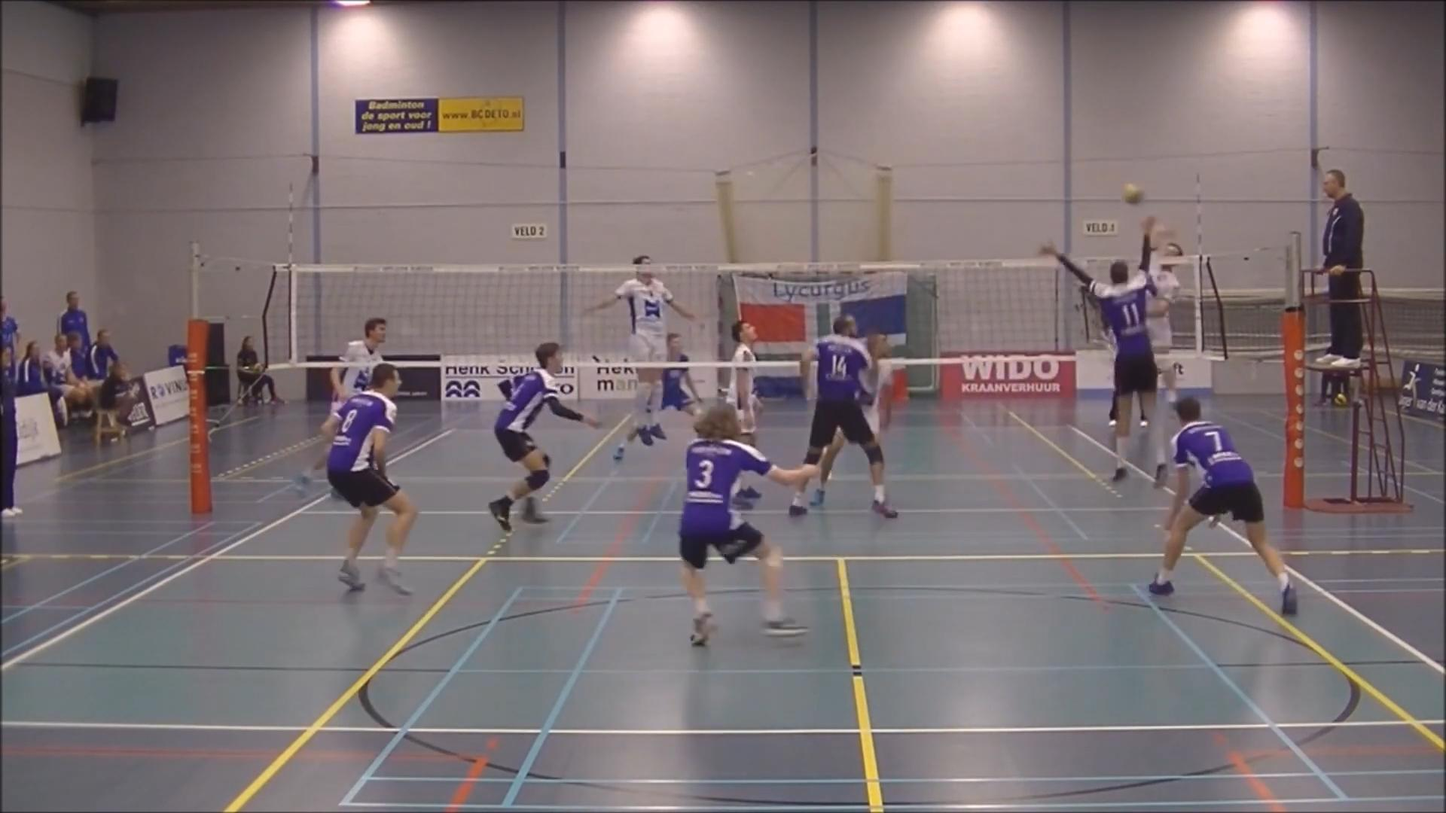attacco: (1128, 216, 1184, 418)
muro: (1034, 222, 1181, 503)
